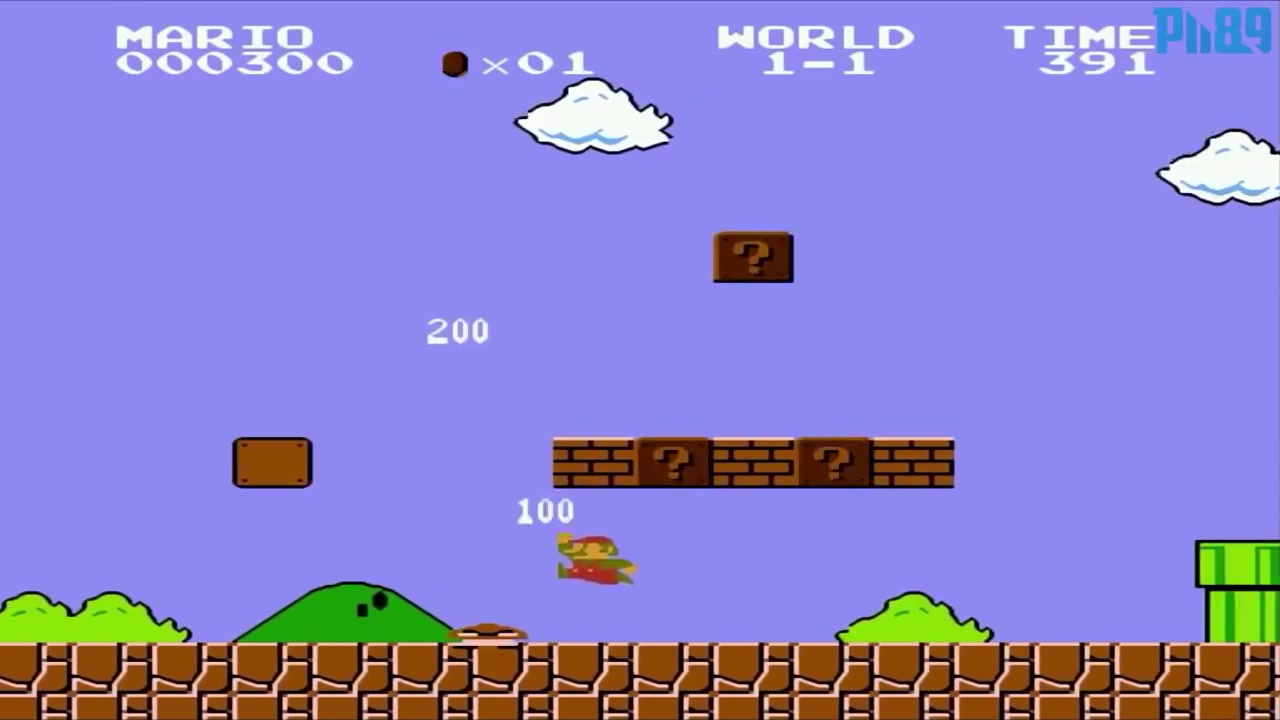mario: (552, 528, 641, 596)
